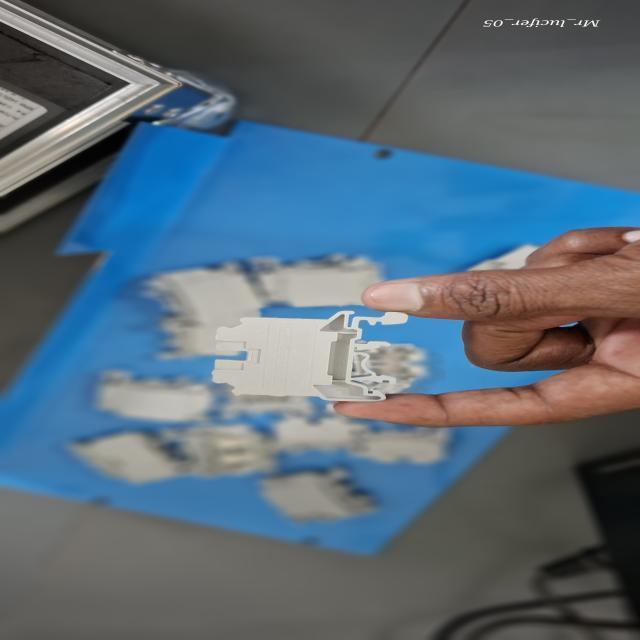Inverted: (204, 304, 416, 408)
